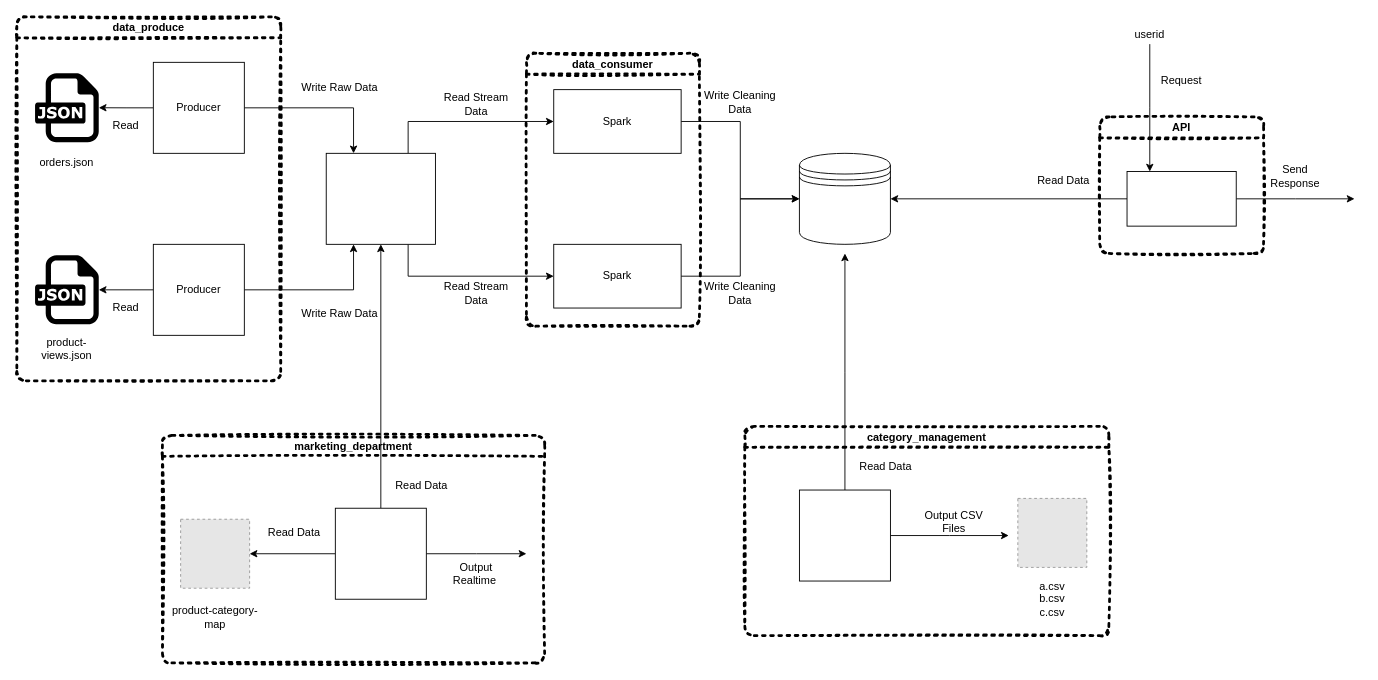
The diagram is 1378 pixels wide and 680 high, and some of its shapes have lost their labels. Grey dashed boxes stand in for pictures. The shapes that lost their labels are listed below. From the top down, each one's centre as x and y in pixels, then its label:
At (380,198): "KAFKA".
At (844,198): "PostgreSQL".
At (1181,198): "app.py".
At (380,553): "Consurmer".
At (844,535): "Main.py".
